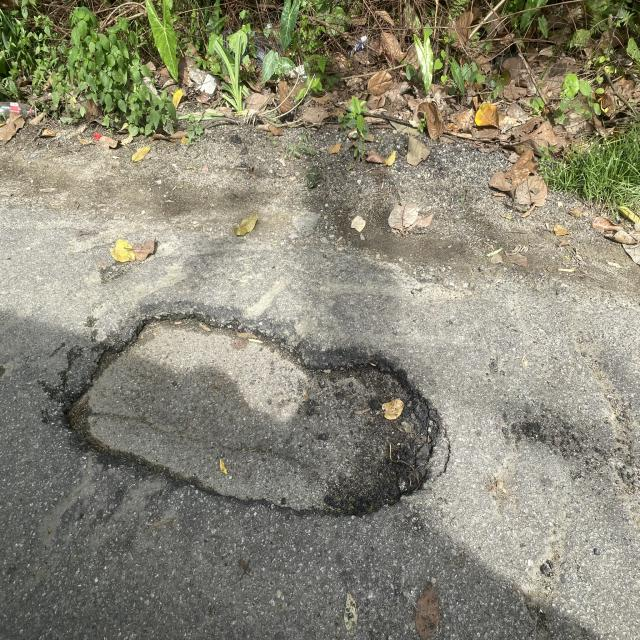Pothole: (49, 278, 484, 568)
